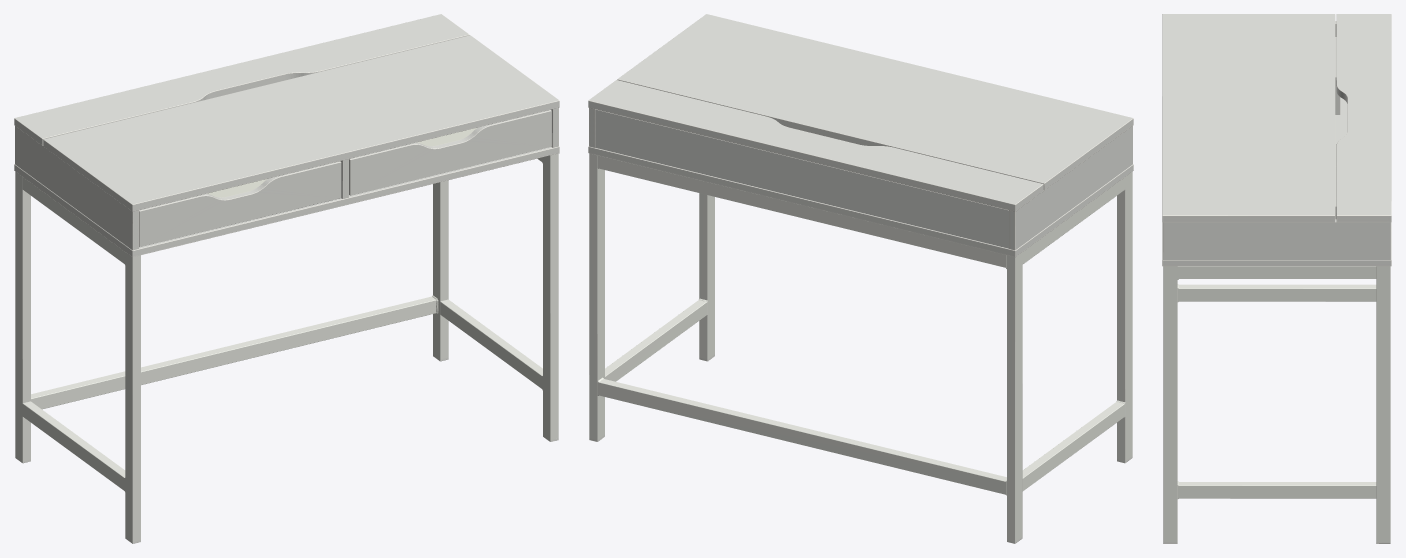
3 views of the same model, side by side, from view 1: azimuth 30°, elevation 25°; view 2: azimuth 150°, elevation 25°; view 3: azimuth 270°, elevation 25° (orthographic). The views are drawn at different scales.
Visible parts, largest first — view 1: GLTF; view 2: GLTF; view 3: GLTF.
Boxes of the visible parts, x1,y1,x2,y2 form: GLTF: (14, 14, 559, 543); GLTF: (588, 14, 1133, 543); GLTF: (1162, 14, 1391, 543).
Bounding box in the file's own units: 1 × 0.76 × 0.48.
Materials: 1 (1 with a texture image).
